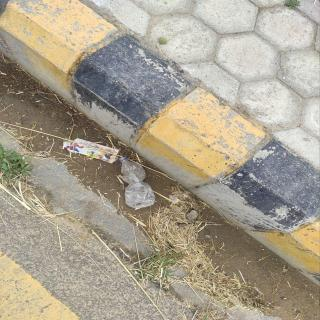Plastic-bottle: (117, 155, 159, 213)
